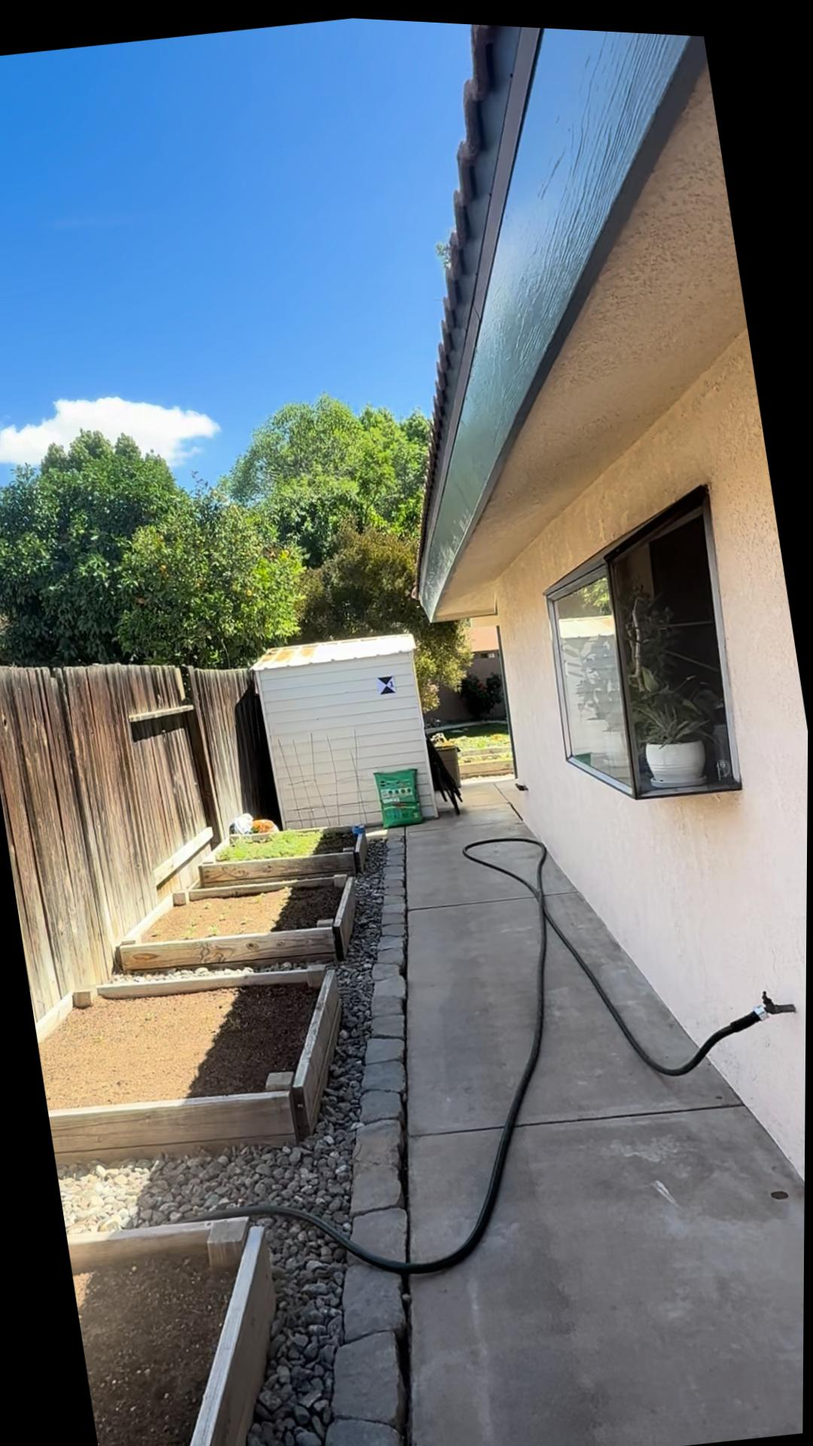target1: (376, 674, 398, 696)
